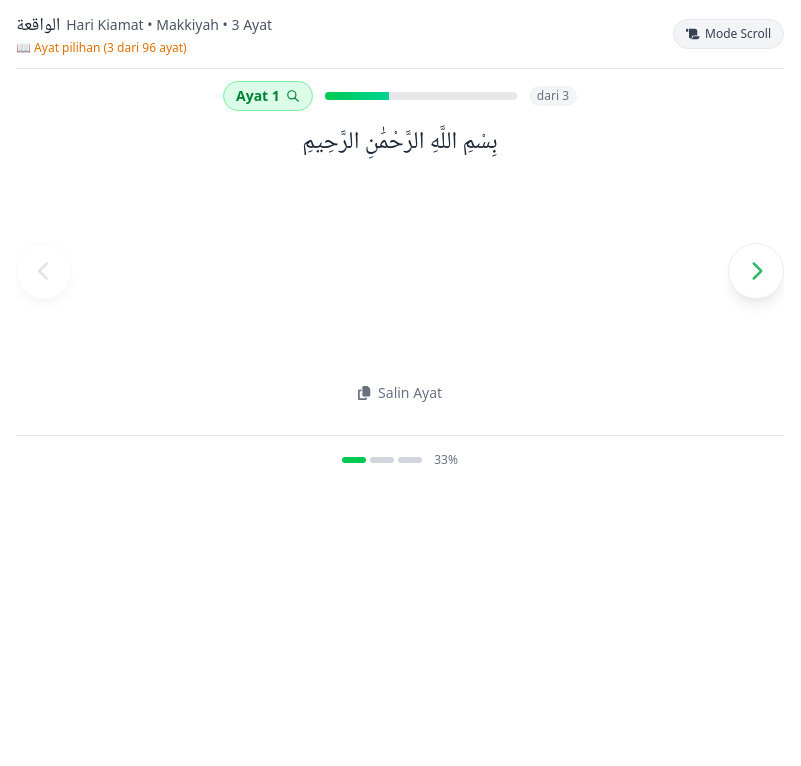
Test: QuranReader › View Mode Toggle › should toggle to scroll mode when clicking toggle button
Click the button "Mode Scroll" at [728, 34], box [673, 19, 784, 49]
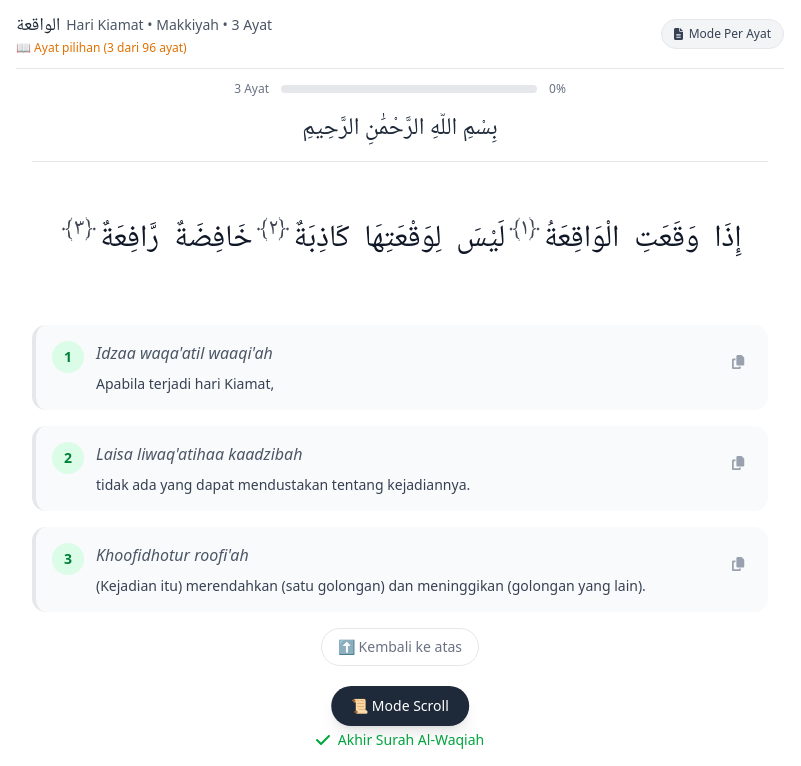
Check: the text "Mode Per Ayat" is shown, box [689, 26, 771, 42]
